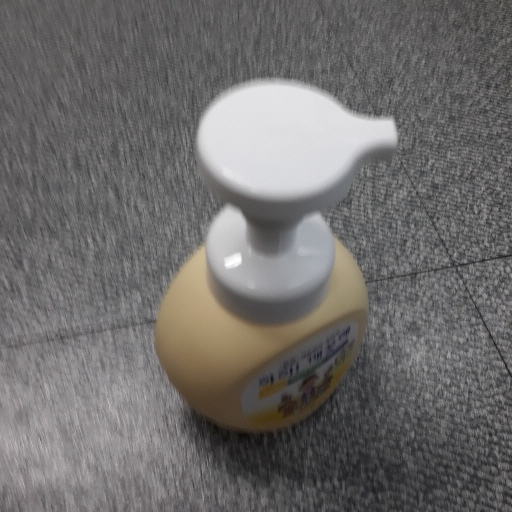Plastic_3: (149, 75, 404, 439)
